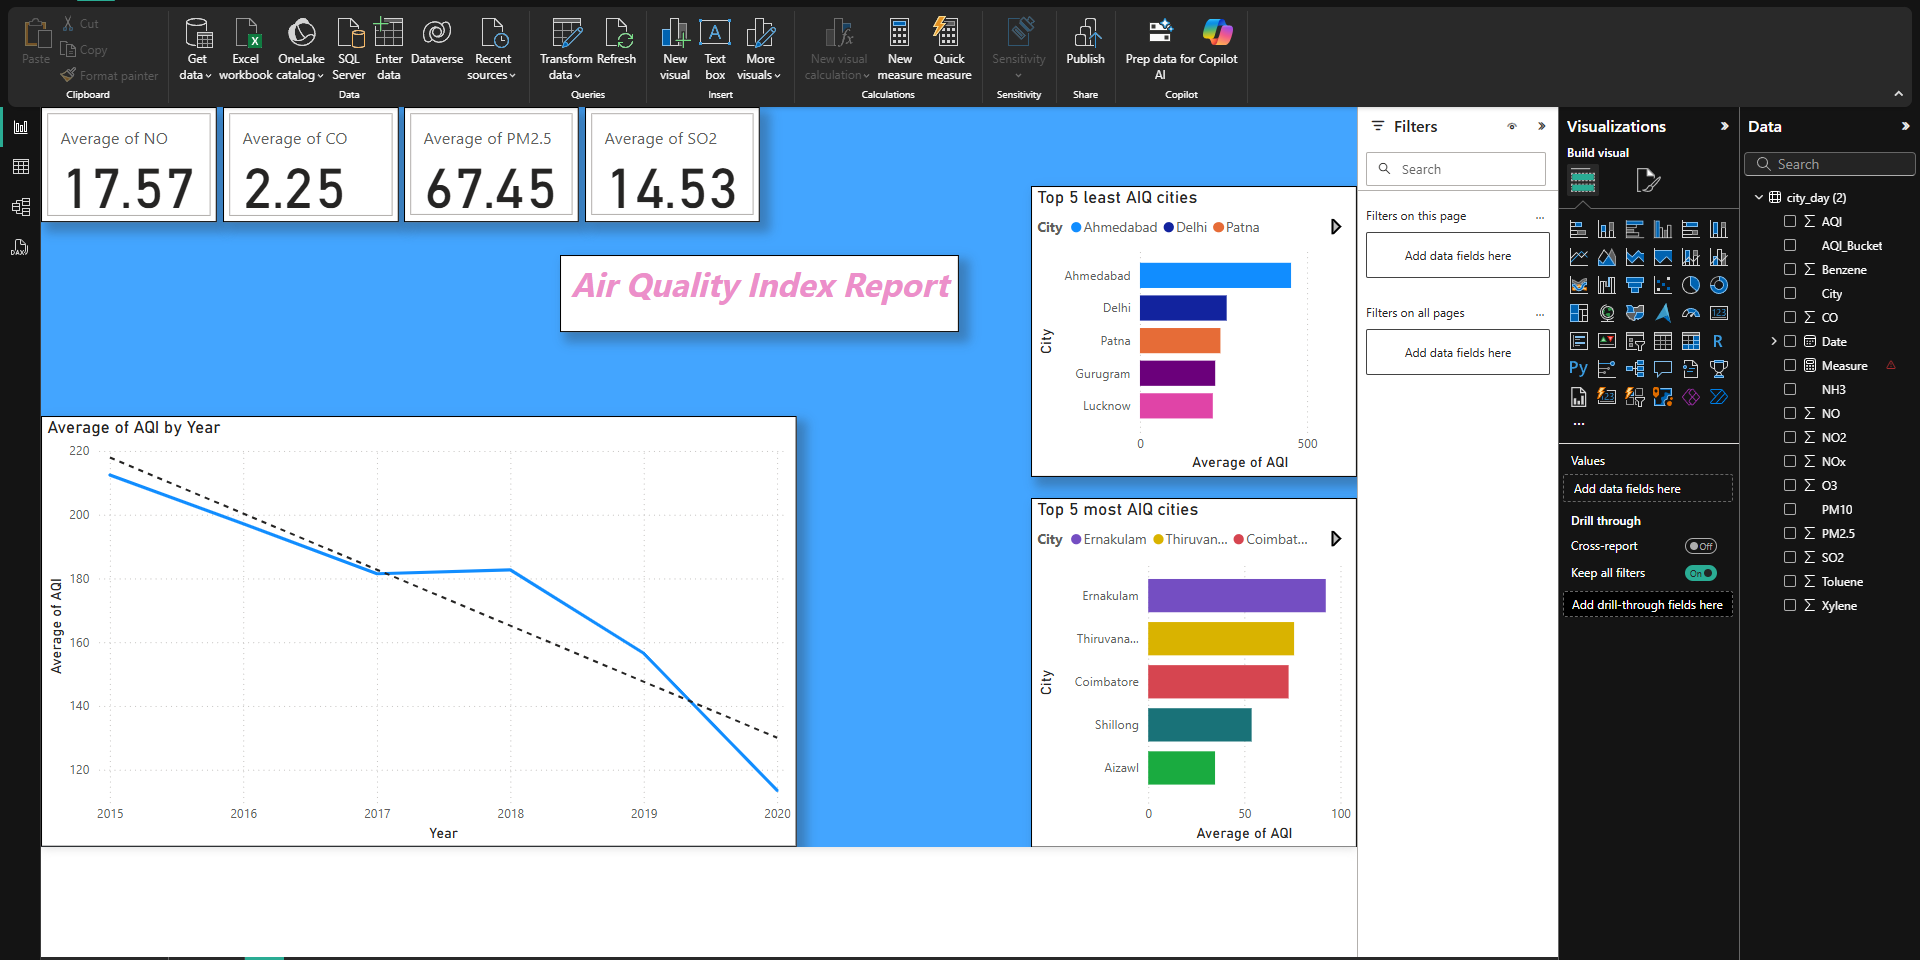

What the dashboard file says about the page in this screenshot:
{"tool":"powerbi","page":{"name":"Page 1","canvas":[1280,720],"ordinal":0},"visuals":[{"type":"lineChart","fields":{"Category":["city_day (2).Date.Variation.Date Hierarchy.Year"],"Y":["Avg(city_day (2).AQI)"]},"box":[0,300.5,735.3,419.2],"z":0},{"type":"cardVisual","fields":{"Data":["Avg(city_day (2).NO)"]},"box":[0,0,171,112],"z":1000},{"type":"barChart","title":"Top 5 least AIQ cities","fields":{"Category":["city_day (2).City"],"Y":["Avg(city_day (2).AQI)"],"Series":["city_day (2).City"]},"box":[962.9,76.8,317.1,283],"z":2000},{"type":"barChart","title":"Top 5 most AIQ cities","fields":{"Category":["city_day (2).City"],"Y":["Avg(city_day (2).AQI)"],"Series":["city_day (2).City"]},"box":[963,380,317,340],"z":3000},{"type":"cardVisual","fields":{"Data":["Avg(city_day (2).CO)"]},"box":[176.6,0,171,112],"z":4000},{"type":"cardVisual","fields":{"Data":["Avg(city_day (2).PM2.5)"]},"box":[353.3,0,170.2,111.9],"z":5000},{"type":"cardVisual","fields":{"Data":["Avg(city_day (2).SO2)"]},"box":[529.1,0,170.2,111.9],"z":6000},{"type":"textbox","box":[504.8,144,388.1,74.9],"z":6001}]}

Visuals, with their boxes on the page's 1280x720 design canvas (x1, y1, x2, y2). These are canvas units, not pixel positions in the 1920x960 screenshot, which may show the page scaled, cropped or inside an application window:
lineChart - city_day (2).Date.Variation.Date Hierarchy.Year x Avg(city_day (2).AQI): box=[0, 300, 735, 720]
cardVisual - Avg(city_day (2).NO): box=[0, 0, 171, 112]
"Top 5 least AIQ cities" barChart: box=[963, 77, 1280, 360]
"Top 5 most AIQ cities" barChart: box=[963, 380, 1280, 720]
cardVisual - Avg(city_day (2).CO): box=[177, 0, 348, 112]
cardVisual - Avg(city_day (2).PM2.5): box=[353, 0, 524, 112]
cardVisual - Avg(city_day (2).SO2): box=[529, 0, 699, 112]
textbox: box=[505, 144, 893, 219]
